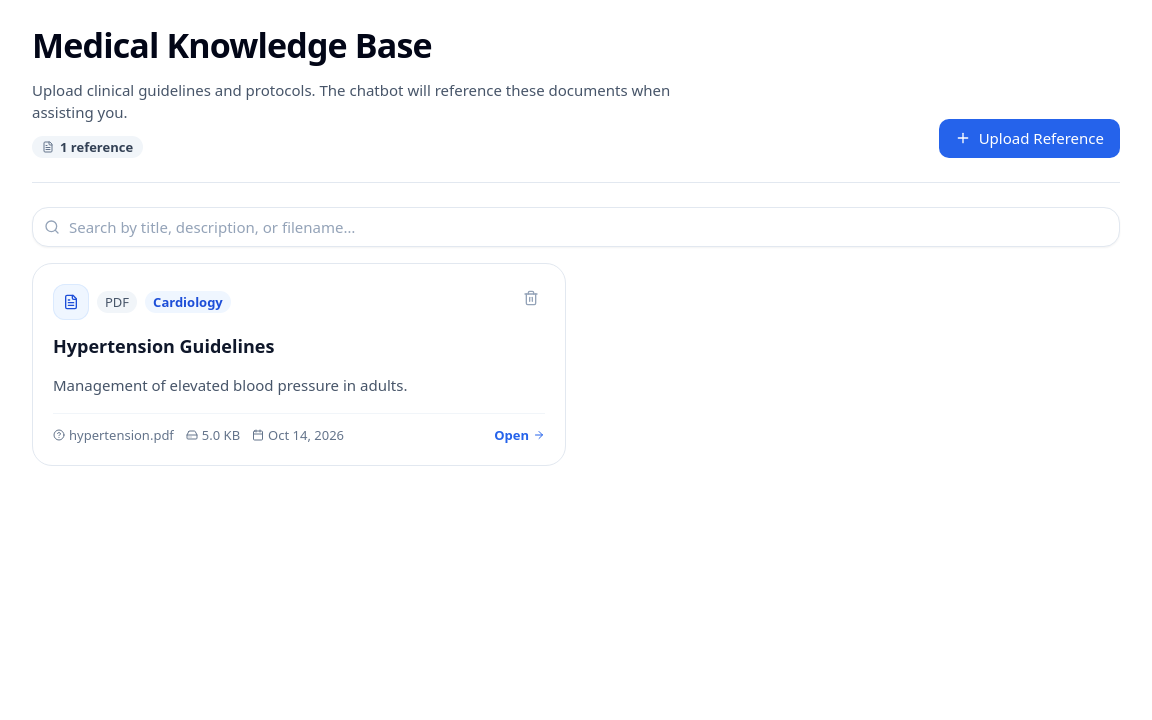
KnowledgeBasePage › explains a permission failure and keeps the document
Click the button named "Remove Hypertension Guidelines". click: (531, 298)
box: [517,284,545,312]
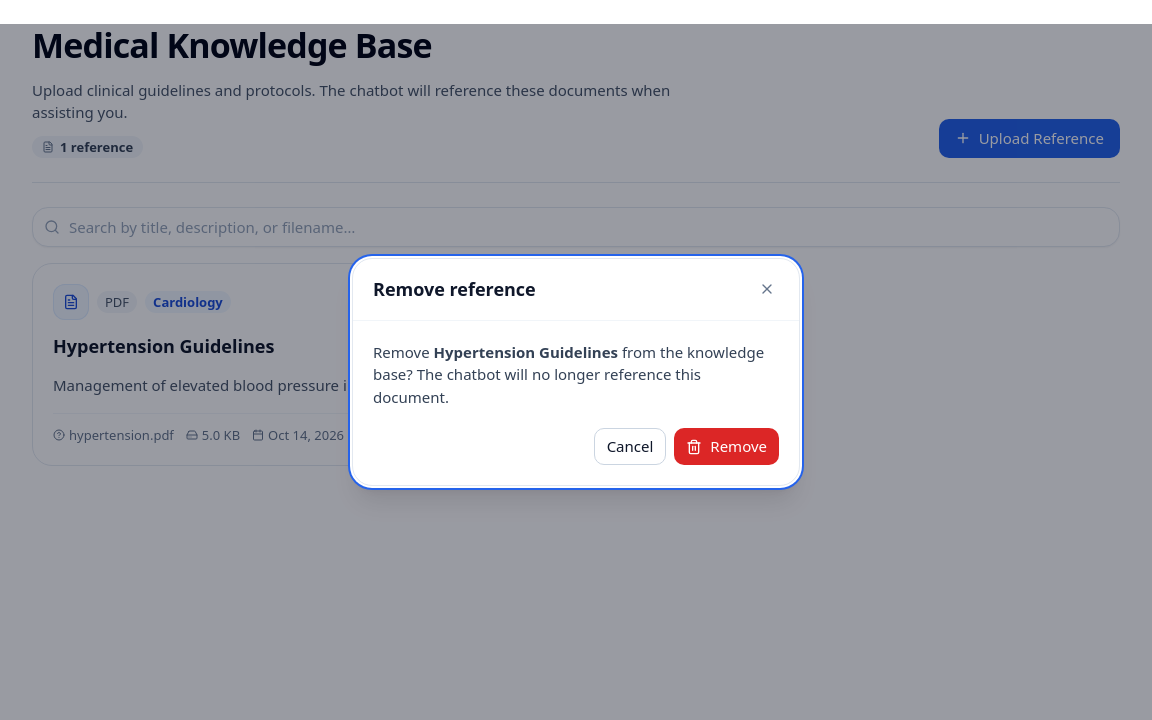
Click the button "Remove". click: (727, 447)
box: [674,428,779,465]
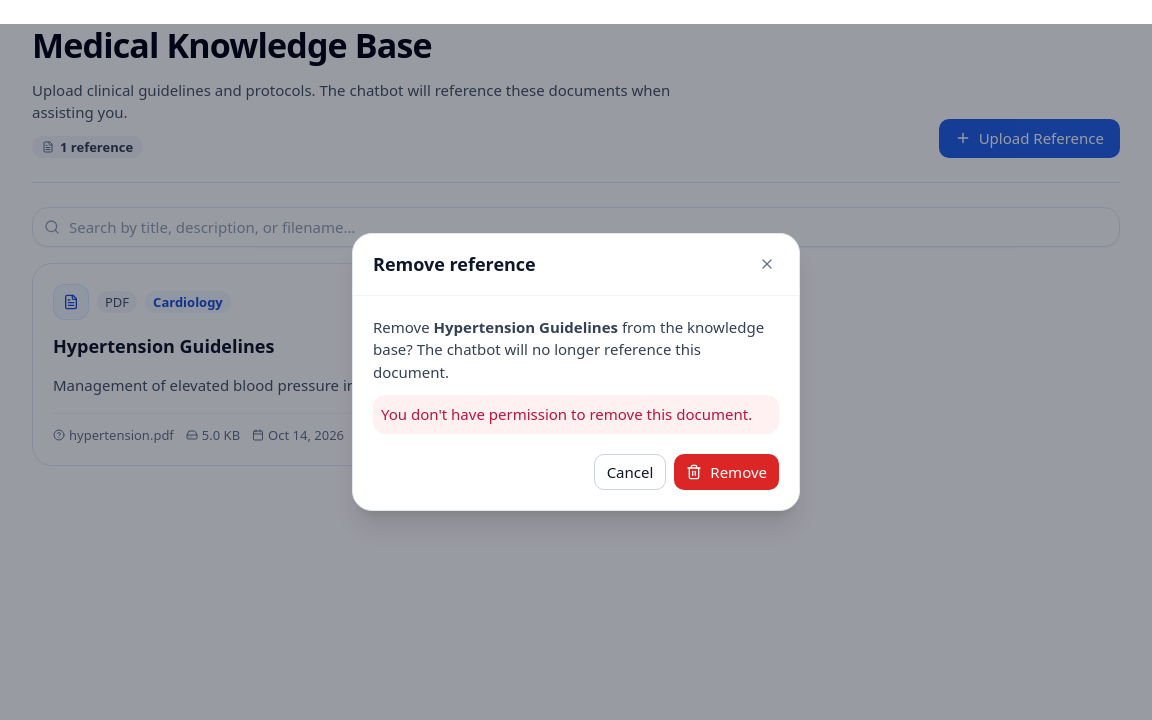
expect the heading "Hypertension Guidelines" is shown: met, box [53,334,274,358]
expect the dialog "Remove reference" is shown: met, box [352,233,800,511]
expect the text "You don't have permission to remove this document." is shown: met, box [373,395,779,434]
